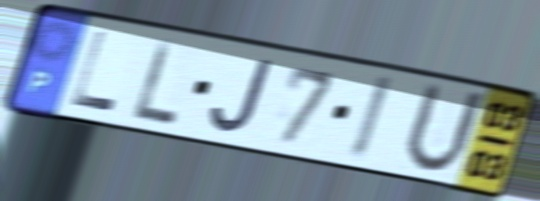7: (278, 64, 339, 145)
I: (344, 71, 398, 165)
J: (206, 57, 277, 136)
L: (67, 27, 121, 115), (130, 35, 181, 128)
U: (399, 78, 489, 178)
